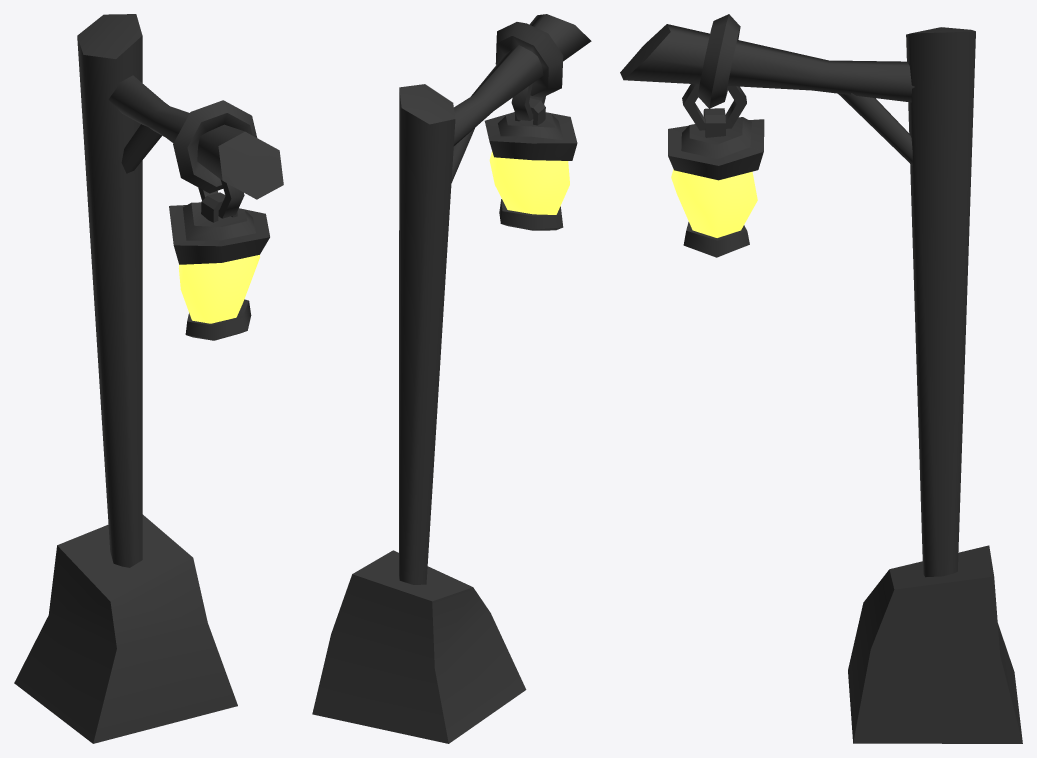
The model's file is SM_PROP_streetlamp_v01_01.FBX.
3 views of the same model, side by side, from view 1: azimuth 30°, elevation 25°; view 2: azimuth 150°, elevation 25°; view 3: azimuth 270°, elevation 25° (orthographic). The views are drawn at different scales.
Parts seen in each view (by area): view 1: SM_PROP_streetlamp_v01_01; view 2: SM_PROP_streetlamp_v01_01; view 3: SM_PROP_streetlamp_v01_01.
Part boxes in pixels (x1=…): SM_PROP_streetlamp_v01_01: x1=14, y1=14, x2=283, y2=743; SM_PROP_streetlamp_v01_01: x1=312, y1=14, x2=591, y2=743; SM_PROP_streetlamp_v01_01: x1=620, y1=14, x2=1022, y2=743.
Size of the model in its own units: 86.3 by 200 by 374.
